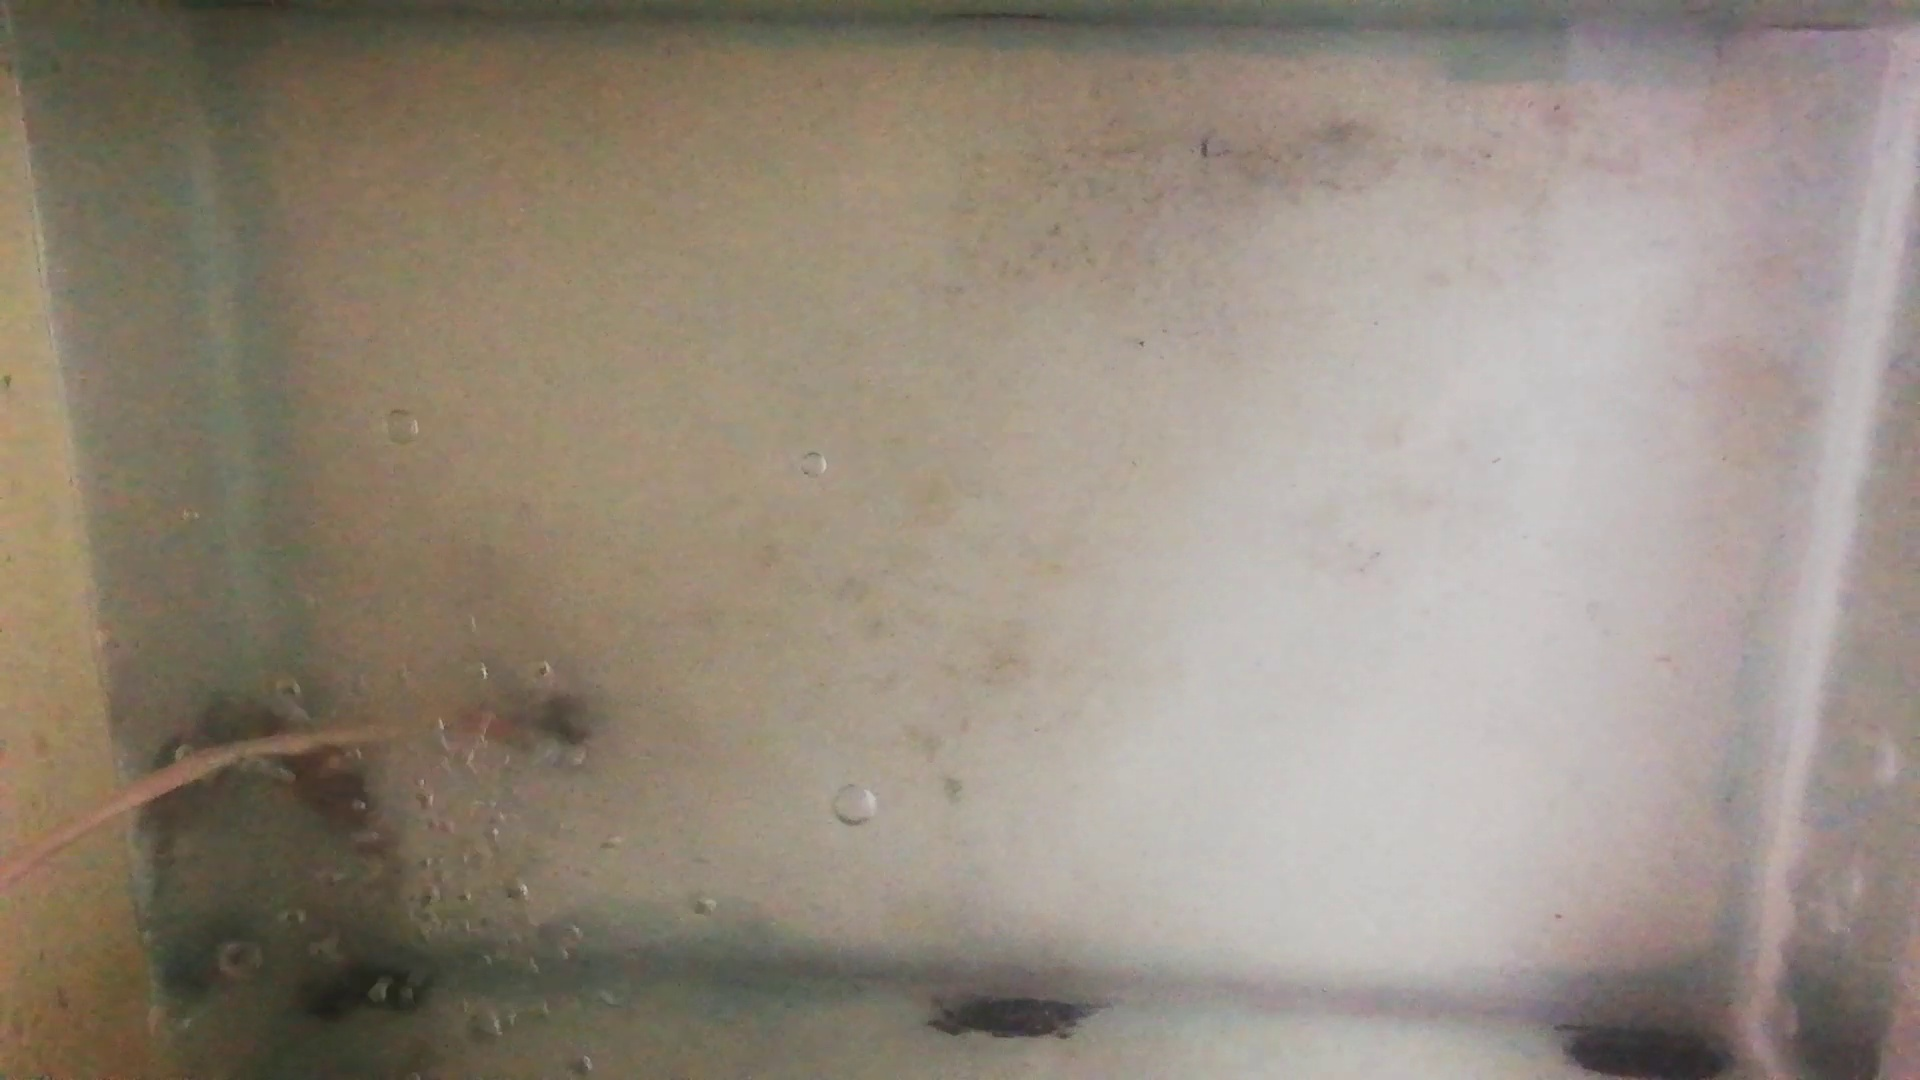fish: (227, 695, 393, 856)
